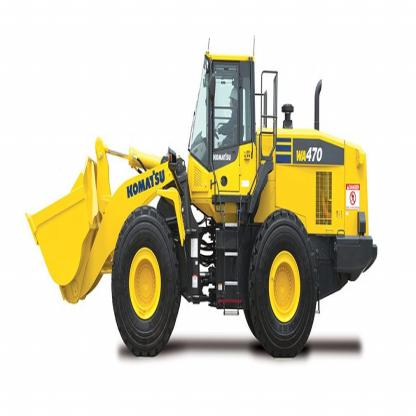bull_dozer/loader/grader: (23, 47, 377, 366)
